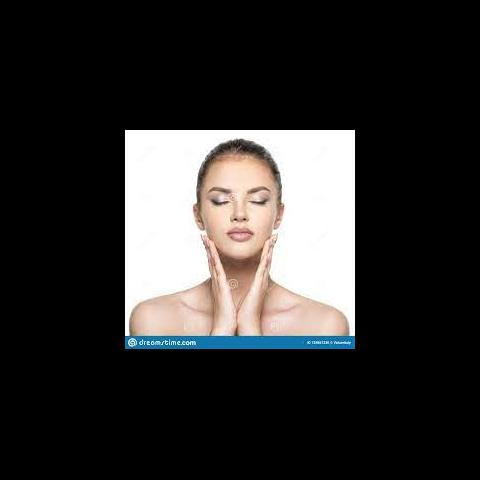closed: (206, 184, 272, 212)
